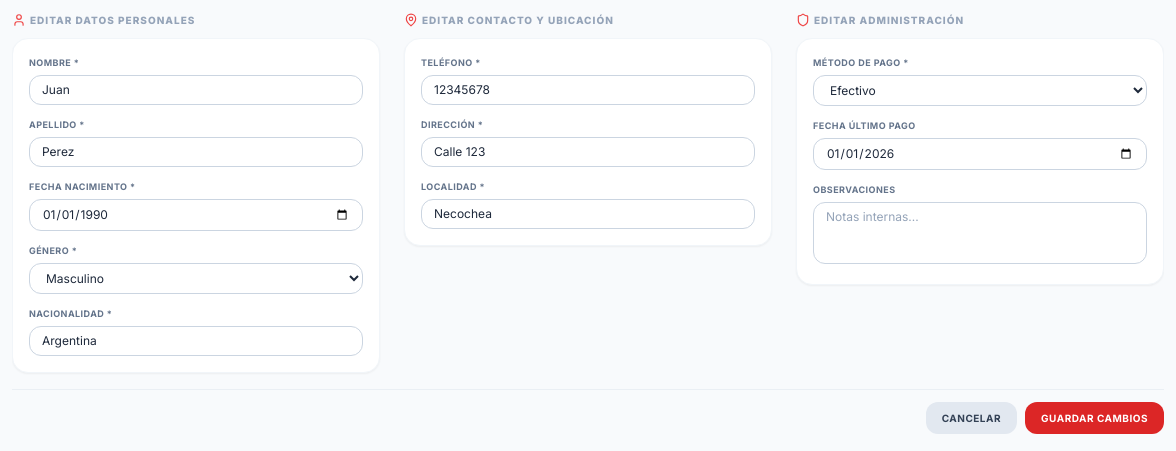
Test case: PartnerForm - UI Skills Standard › debería filtrar números y caracteres inválidos en el campo nombre
The image size is (1176, 451).
Replace the text in the field labelled "Nombre *" with "Juan123 Carlos!@#" at [196, 90], box [29,75,363,105]
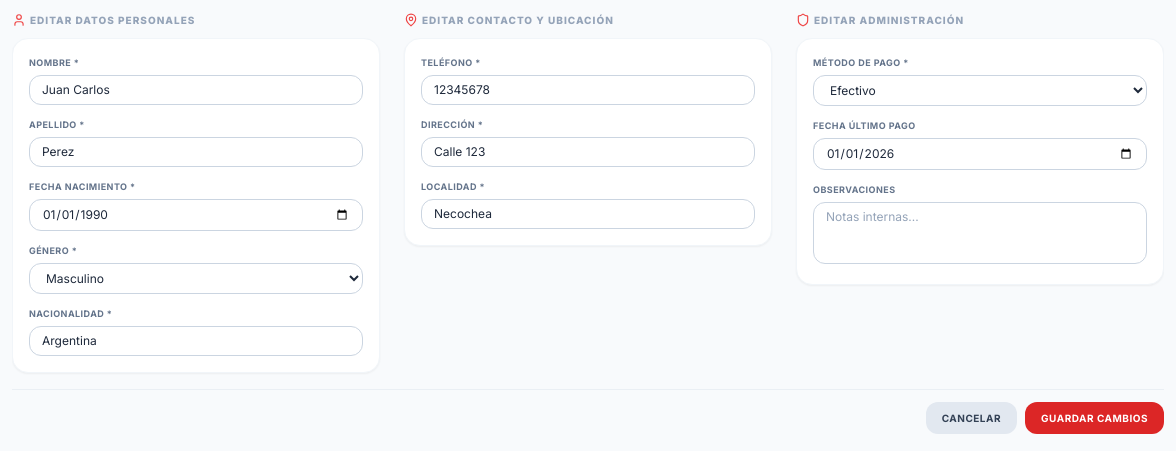
Expected: the field labelled "Nombre *" holds "Juan Carlos", [29,75,363,105]
